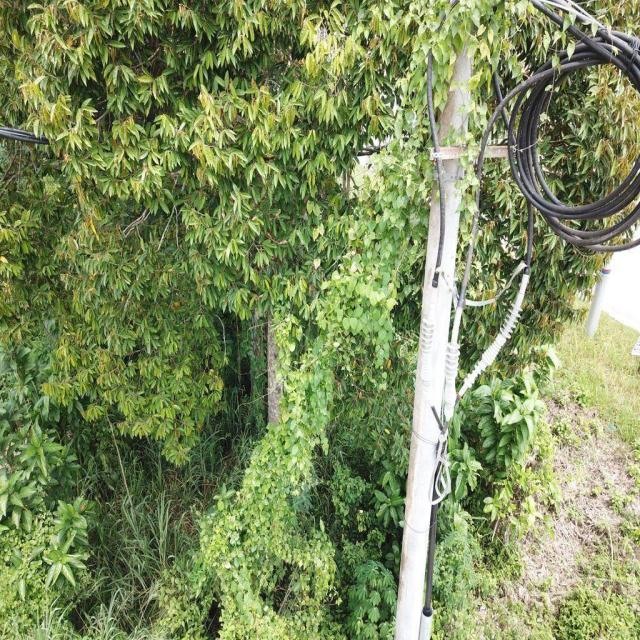light_pole: (162, 38, 474, 630)
